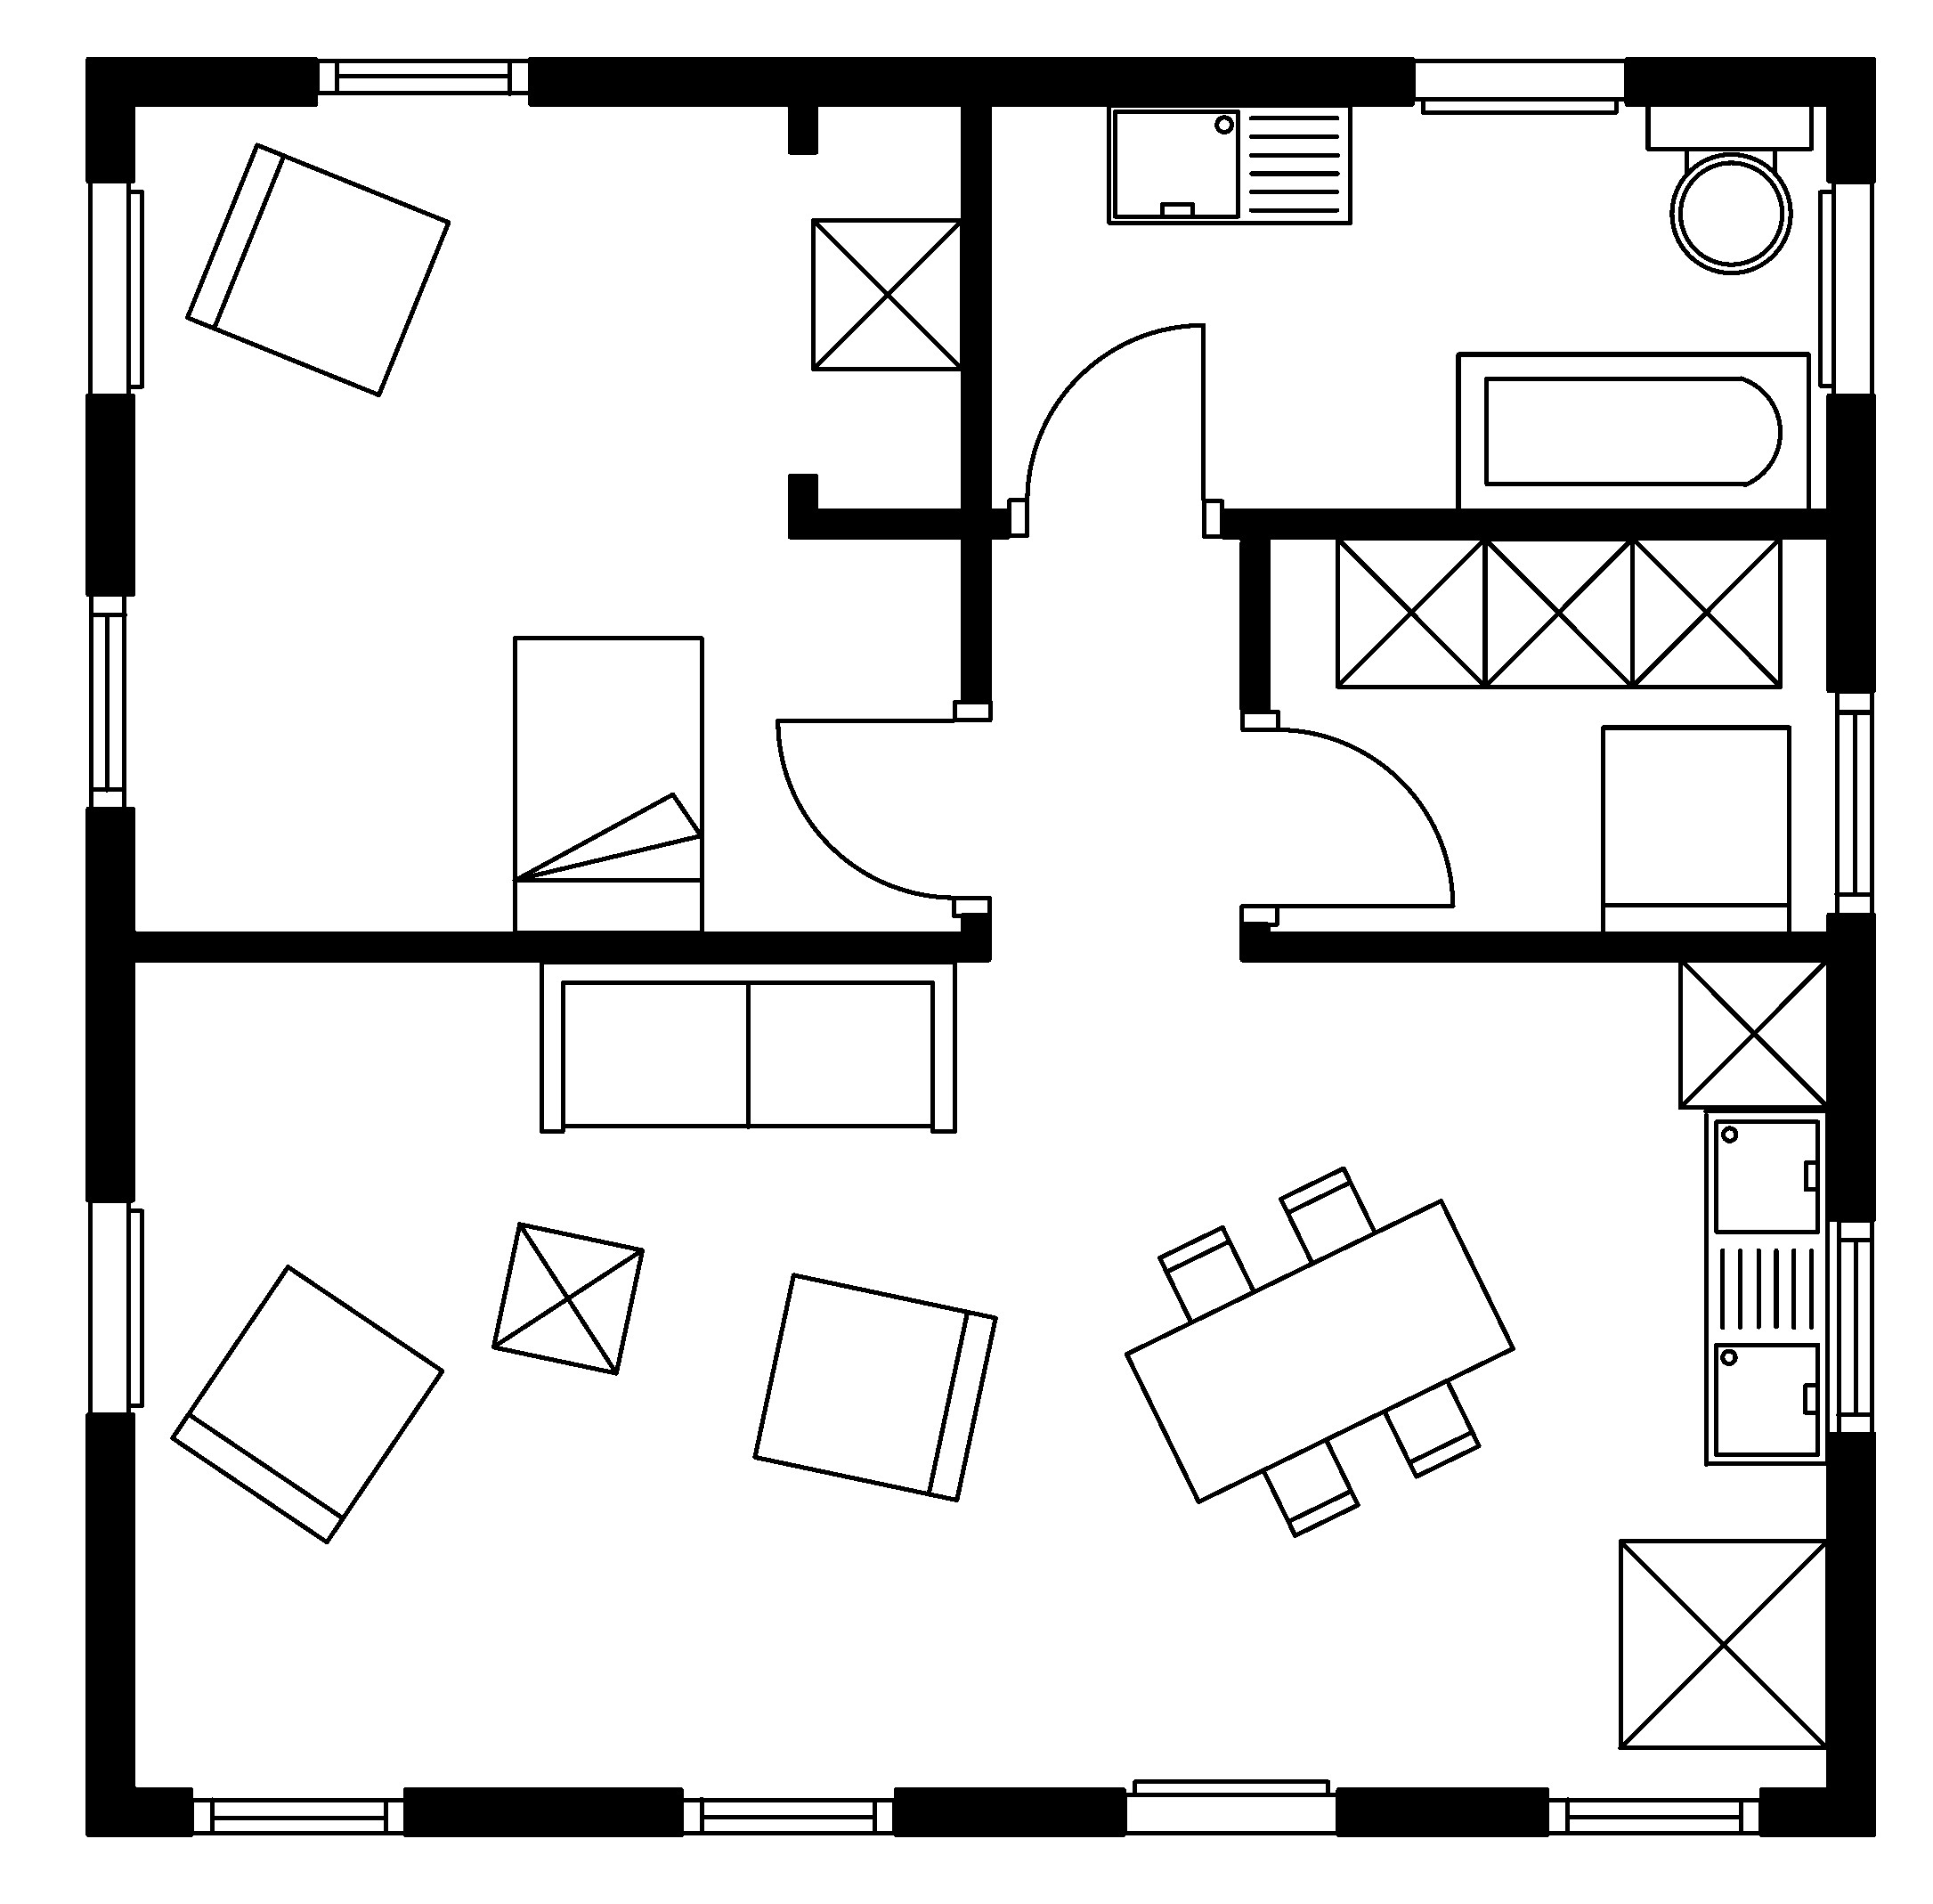bed: (511, 635, 704, 936)
coffee_table: (1616, 1538, 1830, 1751), (809, 216, 966, 371), (490, 1221, 645, 1376), (1480, 534, 1635, 689), (1628, 534, 1783, 689), (1333, 534, 1489, 689), (1675, 955, 1830, 1111)
dining_table: (1122, 1165, 1515, 1540)
large_sink: (1644, 101, 1814, 274)
large_sofa: (539, 959, 957, 1135)
sink: (1105, 101, 1353, 225)
small_sofa: (169, 1262, 444, 1545), (183, 141, 451, 398), (751, 1271, 999, 1503), (1598, 724, 1792, 936)
tub: (1454, 350, 1811, 513)
twin_sink: (1701, 1107, 1830, 1468)
